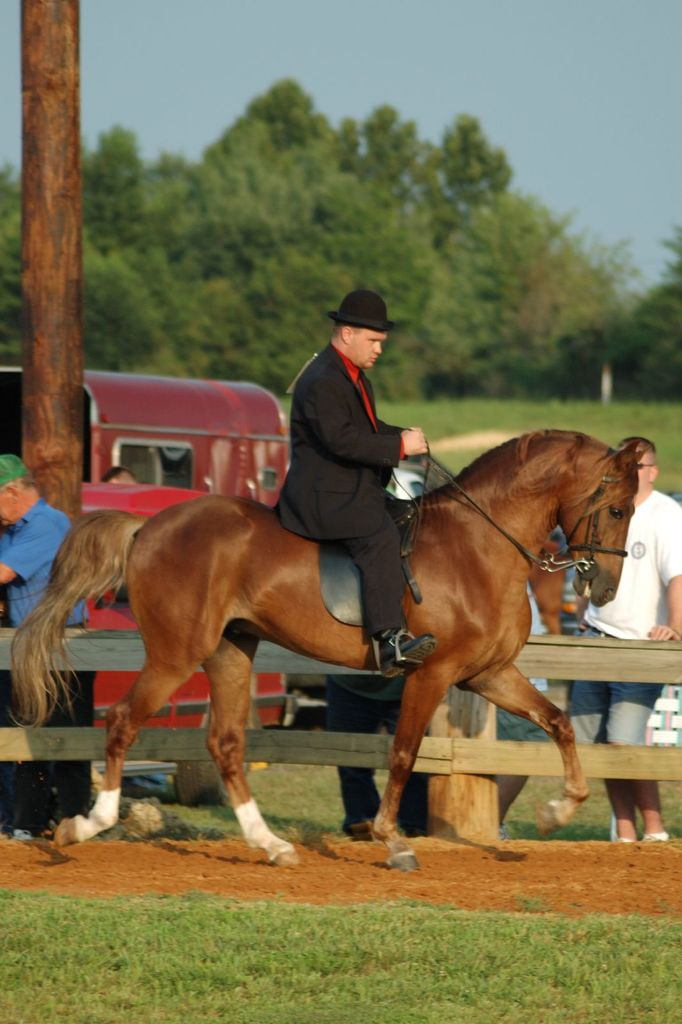horse: (0, 427, 654, 872)
